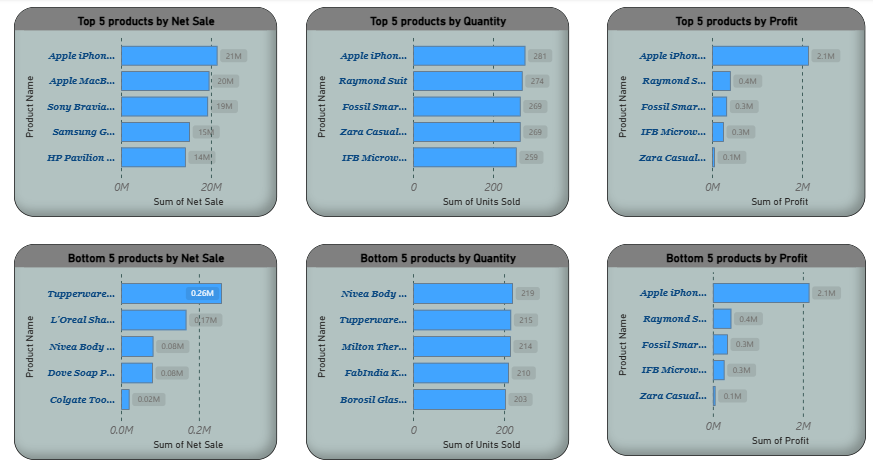

What the dashboard file says about the page in this screenshot:
{"tool":"powerbi","page":{"name":"Top Bottom 5 Analysis","canvas":[1280,720],"ordinal":0},"visuals":[{"type":"barChart","title":"Top 5 products by Net Sale","fields":{"Category":["Dim Product.Product Name"],"Y":["Sum(Fect.Net Sale)"]},"box":[20.5,13.2,384.9,307.3],"z":0},{"type":"barChart","title":"Bottom 5 products by Net Sale","fields":{"Category":["Dim Product.Product Name"],"Y":["Sum(Fect.Net Sale)"]},"box":[20.5,360,384.9,316.1],"z":1000},{"type":"barChart","title":"Top 5 products by Quantity","fields":{"Category":["Dim Product.Product Name"],"Y":["Sum(Fect.Units Sold)"]},"box":[447.1,12.9,384.9,307.3],"z":2000},{"type":"barChart","title":"Bottom 5 products by Quantity","fields":{"Category":["Dim Product.Product Name"],"Y":["Sum(Fect.Units Sold)"]},"box":[447.1,360,384.9,316.1],"z":3000},{"type":"barChart","title":"Top 5 products by Profit","fields":{"Category":["Dim Product.Product Name"],"Y":["Sum(Fect.Profit)"]},"box":[888.6,12.9,377.6,307.3],"z":4000},{"type":"barChart","title":"Bottom 5 products by Profit","fields":{"Category":["Dim Product.Product Name"],"Y":["Sum(Fect.Profit)"]},"box":[888.6,360,378.6,310],"z":5000}]}

Visuals, with their boxes on the page's 1280x720 design canvas (x1, y1, x2, y2). These are canvas units, not pixel positions in the 873x472 screenshot, which may show the page scaled, cropped or inside an application window:
"Top 5 products by Net Sale" barChart: box=[20, 13, 405, 320]
"Bottom 5 products by Net Sale" barChart: box=[20, 360, 405, 676]
"Top 5 products by Quantity" barChart: box=[447, 13, 832, 320]
"Bottom 5 products by Quantity" barChart: box=[447, 360, 832, 676]
"Top 5 products by Profit" barChart: box=[889, 13, 1266, 320]
"Bottom 5 products by Profit" barChart: box=[889, 360, 1267, 670]
